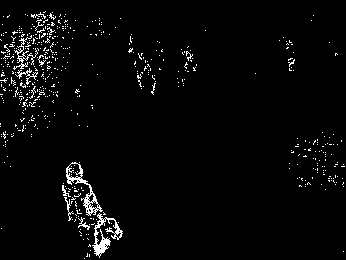person: (60, 163, 126, 260)
